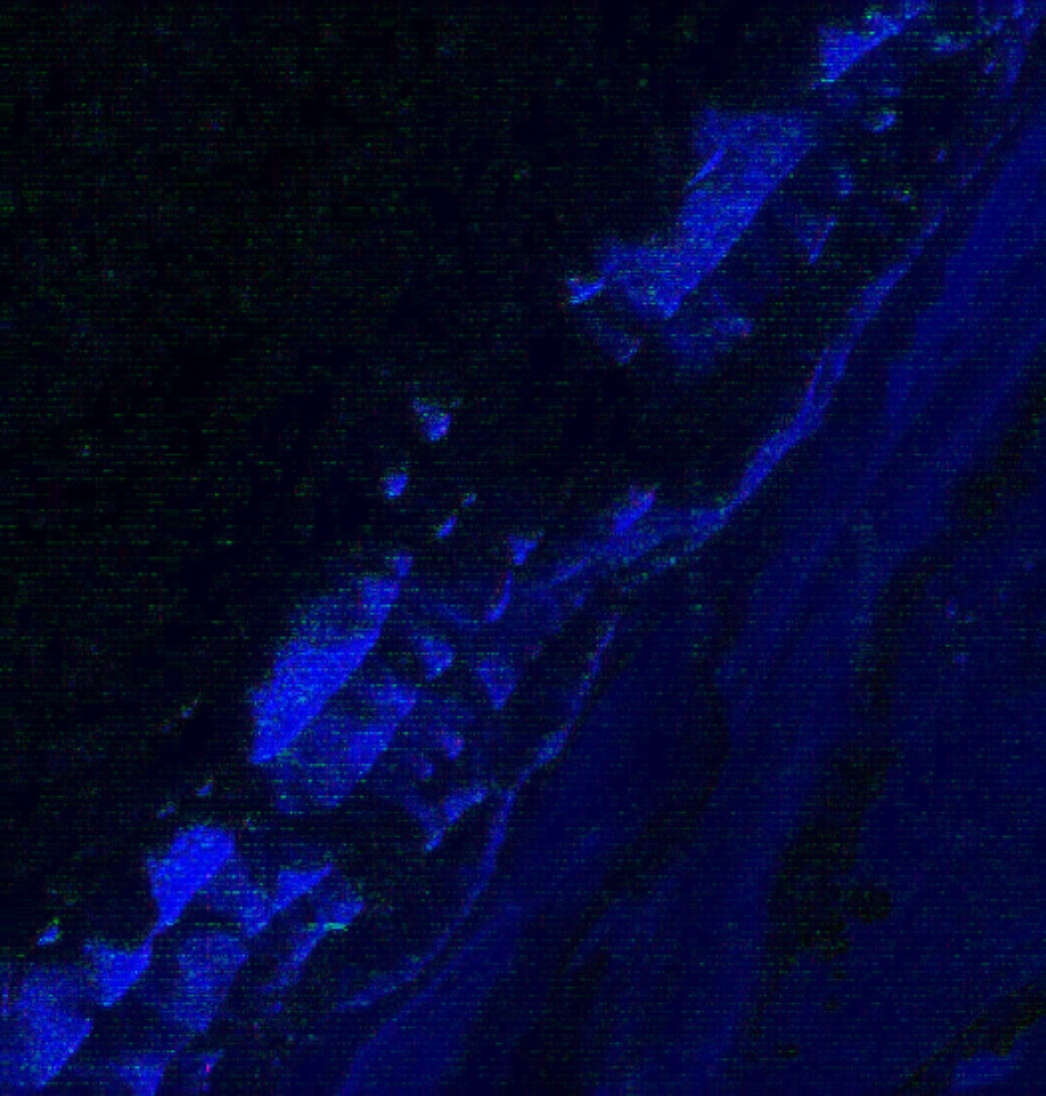rip_current: (340, 233, 739, 551)
